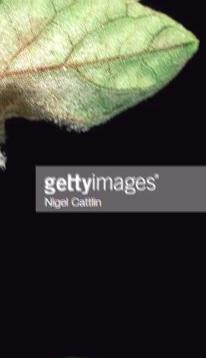Tomato leaf late blight: (0, 0, 206, 220)
